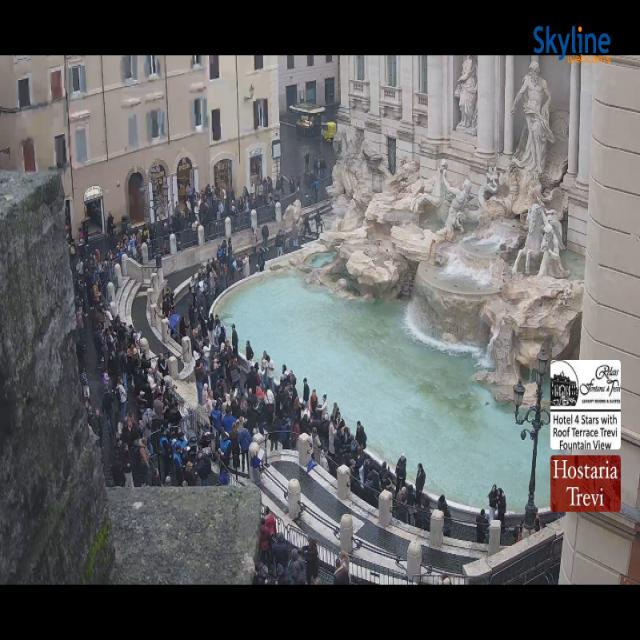person: (138, 405, 172, 479), (212, 340, 242, 410), (76, 256, 103, 330), (137, 386, 165, 455), (219, 340, 243, 419), (148, 380, 180, 435), (212, 346, 237, 414), (90, 259, 111, 336), (210, 355, 229, 434), (210, 345, 232, 411), (246, 365, 267, 434), (237, 386, 263, 435), (140, 398, 171, 438), (243, 363, 261, 430), (198, 265, 212, 338), (66, 218, 88, 264), (331, 420, 349, 476), (352, 446, 371, 499), (190, 269, 207, 328), (136, 389, 157, 436), (133, 402, 156, 444), (104, 329, 118, 390), (105, 330, 119, 390), (90, 250, 114, 285), (341, 420, 363, 457), (170, 200, 195, 232), (156, 202, 179, 236), (284, 384, 303, 423), (303, 538, 319, 584), (107, 239, 125, 278), (219, 325, 234, 371), (123, 345, 138, 391), (139, 408, 161, 439), (366, 460, 381, 505), (288, 548, 306, 584), (206, 259, 219, 308), (203, 262, 216, 309), (238, 425, 251, 471), (272, 532, 289, 567), (270, 418, 288, 451), (209, 190, 228, 221), (82, 266, 95, 311), (137, 351, 151, 392), (192, 191, 207, 229), (102, 391, 114, 438), (119, 329, 128, 391), (310, 179, 320, 233), (249, 179, 267, 209), (121, 443, 133, 488), (438, 495, 451, 536), (160, 430, 172, 474), (184, 192, 199, 227), (218, 432, 231, 472), (172, 399, 189, 429), (196, 451, 211, 485), (260, 518, 271, 564), (334, 551, 349, 584), (251, 179, 267, 209), (416, 498, 431, 530), (194, 359, 204, 406), (230, 358, 242, 397), (204, 185, 217, 221), (264, 389, 275, 431), (356, 446, 367, 488), (211, 260, 223, 298), (117, 377, 127, 422), (256, 177, 272, 205), (300, 407, 317, 433), (274, 377, 285, 417), (287, 548, 299, 584), (230, 422, 239, 469), (245, 363, 260, 391), (121, 420, 135, 450), (215, 259, 226, 297), (173, 444, 183, 485), (396, 455, 406, 496), (476, 509, 488, 543), (212, 190, 226, 219), (396, 486, 407, 522), (416, 464, 425, 508), (188, 275, 196, 324), (405, 485, 415, 524), (175, 431, 187, 463), (334, 422, 343, 464), (112, 460, 126, 487), (222, 405, 235, 434), (488, 485, 498, 522), (497, 489, 506, 530), (324, 450, 338, 476), (287, 370, 298, 403), (81, 206, 89, 250), (93, 326, 103, 361), (76, 309, 86, 344), (230, 195, 247, 215), (169, 206, 182, 232), (249, 456, 261, 484), (189, 326, 199, 359), (297, 172, 308, 202), (312, 428, 321, 464), (356, 420, 367, 449), (92, 409, 103, 437), (203, 258, 213, 287), (153, 390, 163, 419), (198, 306, 207, 338), (264, 190, 277, 212), (216, 317, 226, 345), (265, 508, 275, 536), (184, 462, 196, 485), (157, 352, 168, 377), (205, 389, 215, 416), (228, 253, 237, 283), (328, 418, 335, 456), (289, 370, 298, 399), (276, 564, 289, 584), (260, 351, 267, 388), (302, 214, 313, 237), (199, 196, 208, 224), (310, 390, 319, 418), (267, 356, 274, 392), (184, 200, 194, 225), (216, 242, 226, 267), (302, 172, 312, 197), (207, 313, 215, 344), (166, 285, 175, 312), (258, 178, 267, 205), (290, 224, 300, 248), (291, 420, 299, 449), (315, 210, 323, 238), (186, 182, 194, 210), (261, 224, 269, 252), (536, 509, 547, 529), (320, 395, 328, 422), (150, 469, 162, 487), (283, 230, 292, 254), (303, 378, 310, 408), (219, 466, 230, 485), (197, 273, 205, 299), (304, 173, 312, 198), (232, 324, 238, 357), (514, 520, 523, 542), (535, 508, 544, 530), (437, 494, 447, 513), (320, 450, 329, 471), (162, 296, 171, 317), (204, 184, 212, 207), (93, 282, 101, 305), (179, 317, 187, 339), (102, 370, 110, 392), (128, 235, 136, 257), (108, 211, 115, 236), (76, 257, 84, 278), (221, 189, 229, 210), (276, 176, 283, 199), (281, 364, 289, 384), (276, 230, 282, 256), (246, 340, 253, 362), (332, 403, 339, 425), (141, 225, 149, 244), (240, 197, 250, 212), (76, 257, 83, 278), (218, 199, 225, 219), (258, 248, 264, 271), (252, 228, 257, 255), (535, 509, 541, 531), (241, 186, 249, 202), (512, 525, 519, 543), (321, 158, 327, 178), (266, 177, 273, 194), (230, 200, 237, 216), (317, 157, 322, 178), (304, 151, 309, 172), (289, 177, 295, 194), (318, 158, 323, 178), (442, 573, 451, 584), (314, 157, 319, 176), (251, 180, 255, 198), (313, 578, 323, 584)
